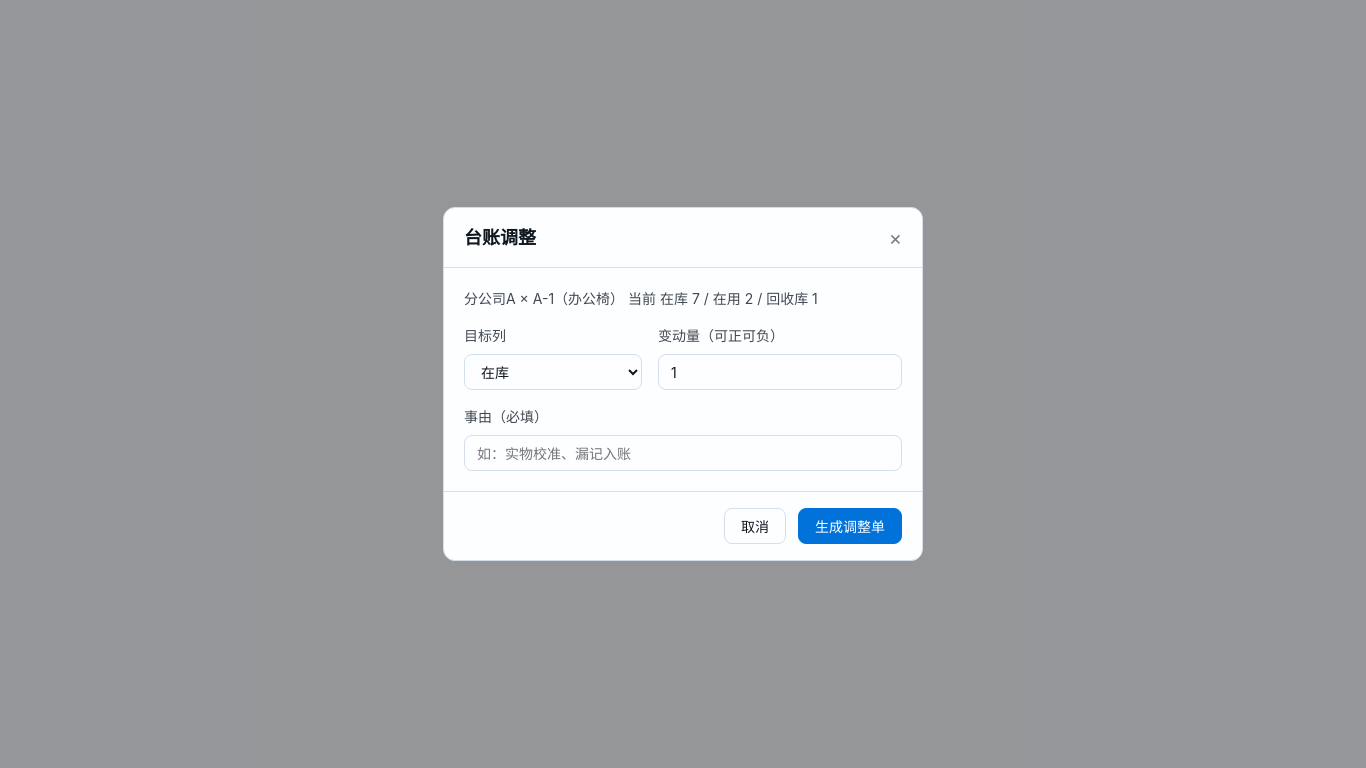
Test case: AdjustDialog 行内开调整单（P3） › 事由为空被本地拦截不发请求
The image size is (1366, 768).
Step 1. Click the button "生成调整单" → (850, 526), box left=798, top=508, right=902, bottom=544
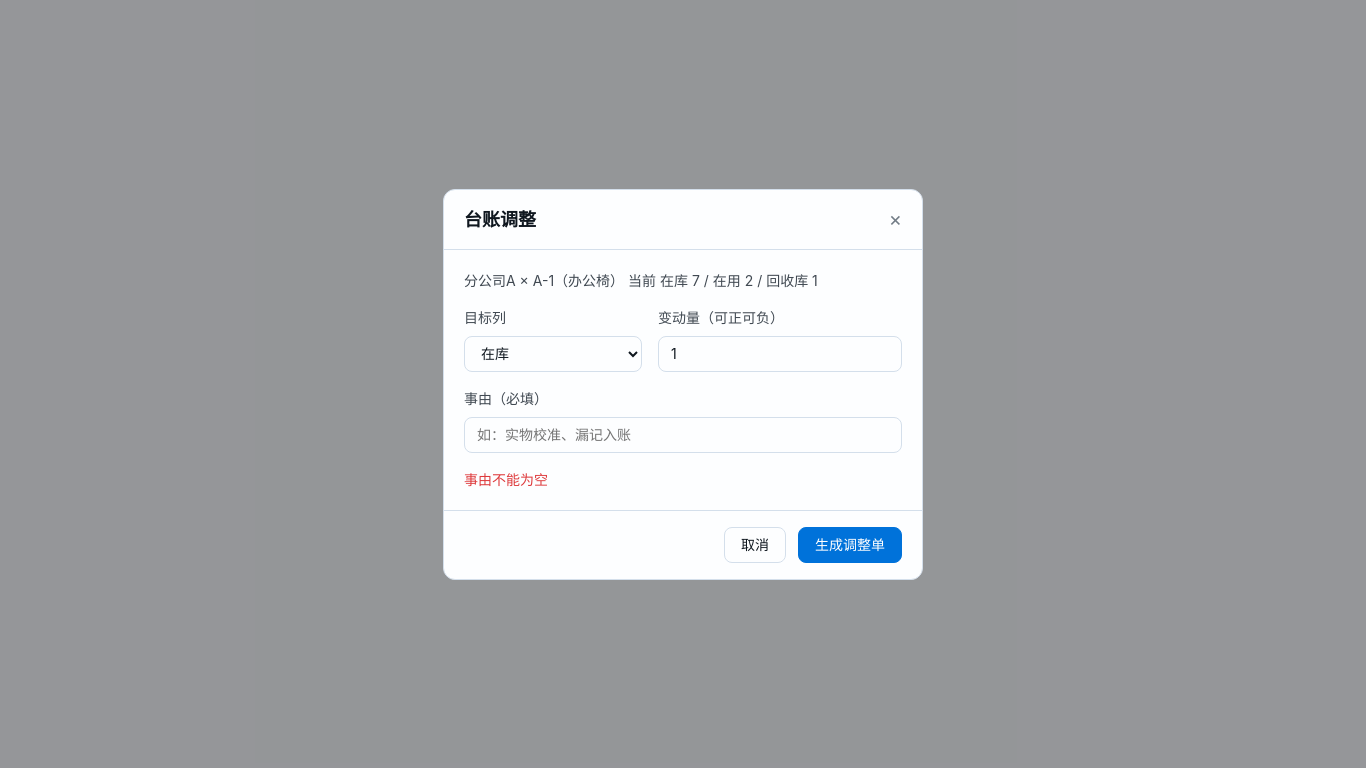
Check: the text with class "error-text" shows "事由", box left=464, top=470, right=548, bottom=488
